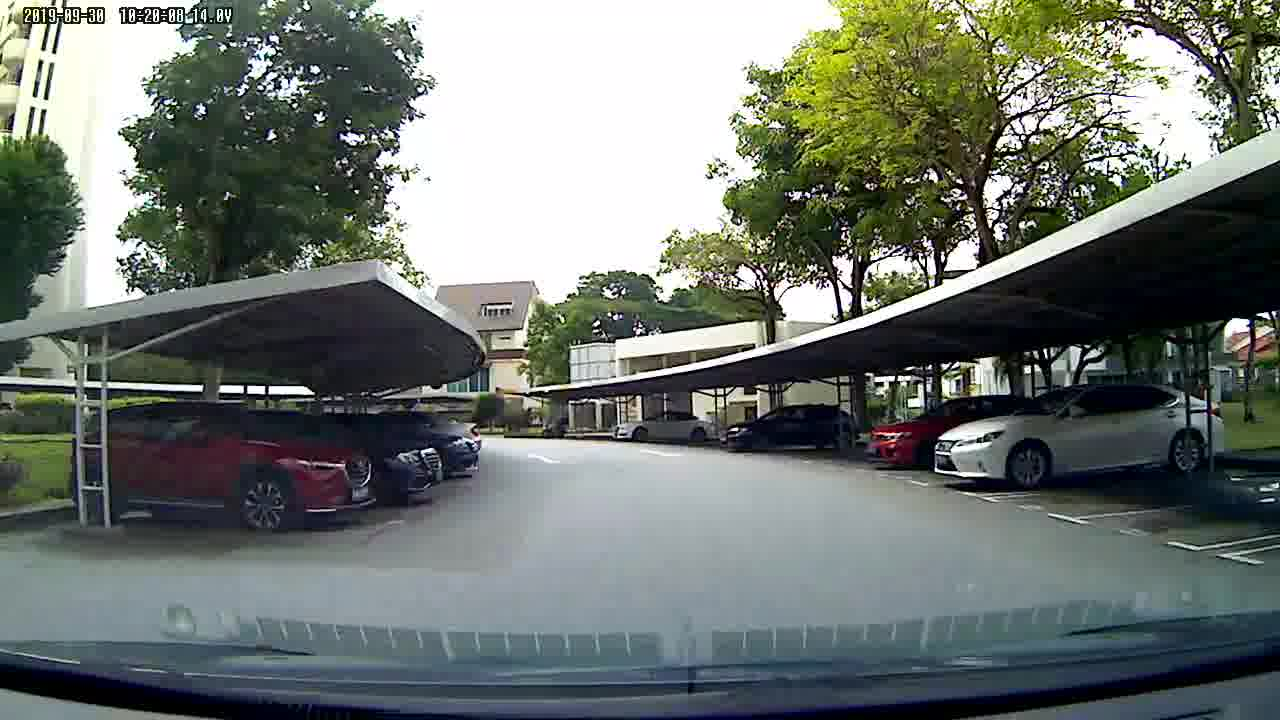car: (65, 394, 374, 539), (937, 378, 1229, 487), (724, 405, 864, 460), (612, 408, 718, 446)
